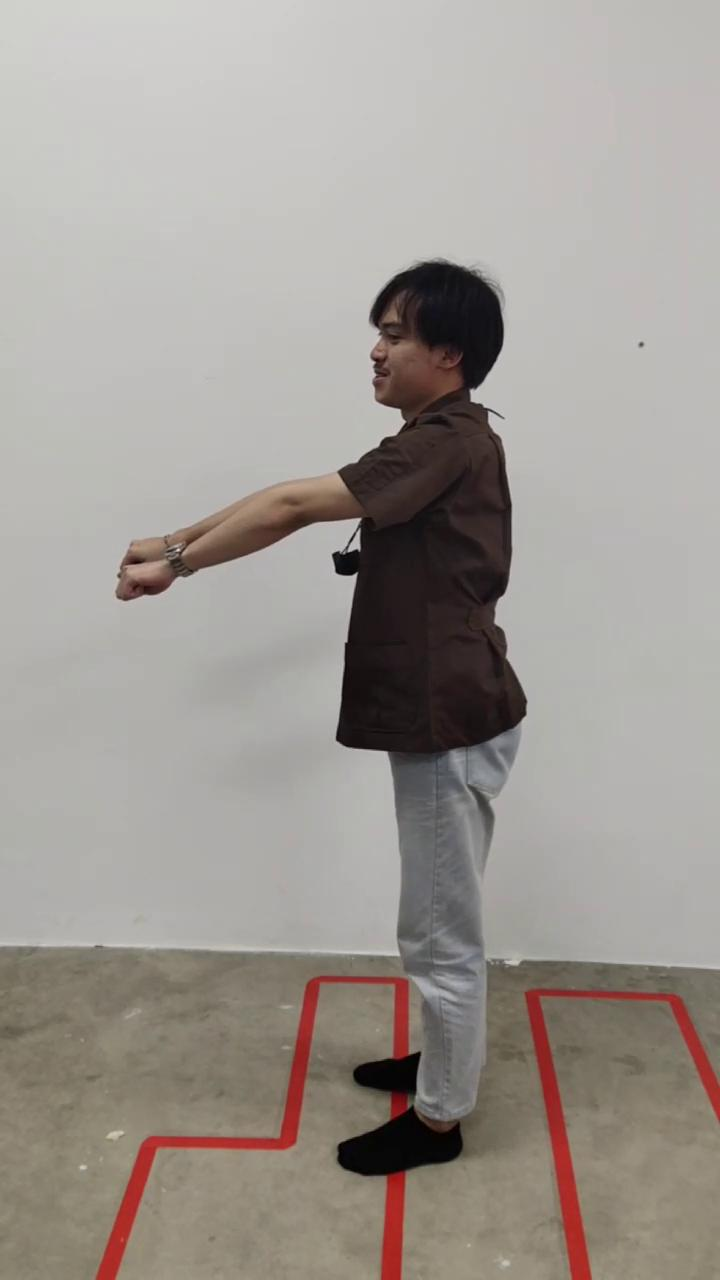squat up: (115, 260, 525, 1175)
